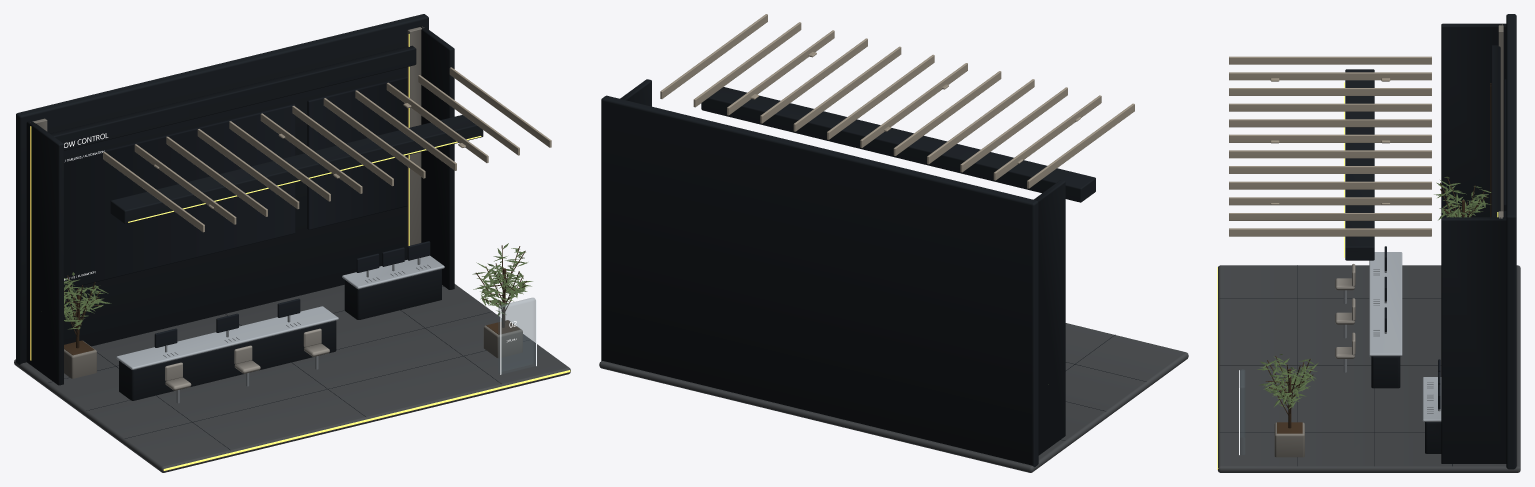
The model's file is show-control.glb.
3 renders of one model, left to right at view 1: azimuth 30°, elevation 25°; view 2: azimuth 150°, elevation 25°; view 3: azimuth 270°, elevation 25°, orthographic. The views are drawn at different scales.
Visible parts, largest first — view 1: Graphite lacquer, Honed grey stone, Screen substrate, Brushed champagne aluminium, Satin aluminium, Silver travertine, Olive leaf, Smoked architectural glass, 3000K integrated light, Smoked oak, Warm grey upholstery; view 2: Graphite lacquer, Brushed champagne aluminium, Honed grey stone; view 3: Honed grey stone, Graphite lacquer, Brushed champagne aluminium, Satin aluminium, Olive leaf, Silver travertine, Smoked oak, Warm grey upholstery, Screen substrate, Smoked architectural glass.
Part boxes in pixels (x1,y1,x2,y2): Graphite lacquer: (16, 14, 530, 450); Honed grey stone: (14, 284, 570, 472); Screen substrate: (64, 76, 430, 347); Brushed champagne aluminium: (103, 67, 551, 232); Satin aluminium: (116, 255, 444, 403); Silver travertine: (32, 26, 522, 378); Olive leaf: (64, 243, 532, 329); Smoked architectural glass: (498, 298, 535, 373); 3000K integrated light: (30, 34, 570, 470); Smoked oak: (64, 245, 527, 355); Warm grey upholstery: (165, 328, 329, 390); Graphite lacquer: (601, 79, 1146, 467); Brushed champagne aluminium: (660, 14, 1134, 188); Honed grey stone: (599, 323, 1188, 472); Honed grey stone: (1218, 265, 1520, 472); Graphite lacquer: (1220, 14, 1516, 469); Brushed champagne aluminium: (1229, 56, 1431, 236); Satin aluminium: (1343, 252, 1441, 421); Olive leaf: (1257, 176, 1491, 408); Silver travertine: (1274, 24, 1503, 457); Smoked oak: (1265, 83, 1491, 433); Warm grey upholstery: (1335, 264, 1355, 358); Screen substrate: (1384, 79, 1506, 409); Smoked architectural glass: (1240, 369, 1244, 454).
Bounding box in the file's own units: 13 × 7.7 × 8.21.
